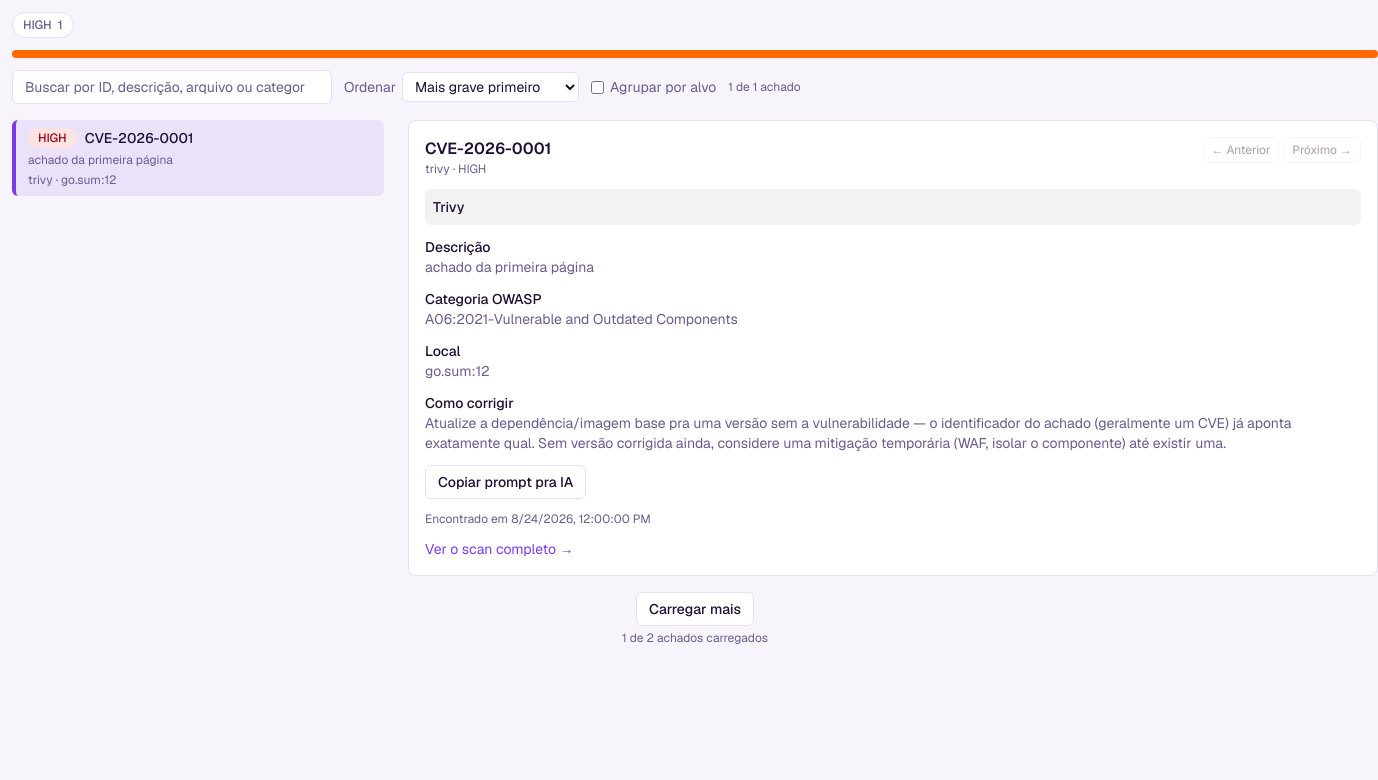
PaginatedFindingsFeed › uma falha ao carregar mais mostra um toast de erro e mantém os achados já carregados
Click the button "Carregar mais". click: x=695, y=609
box: [636,592,754,626]
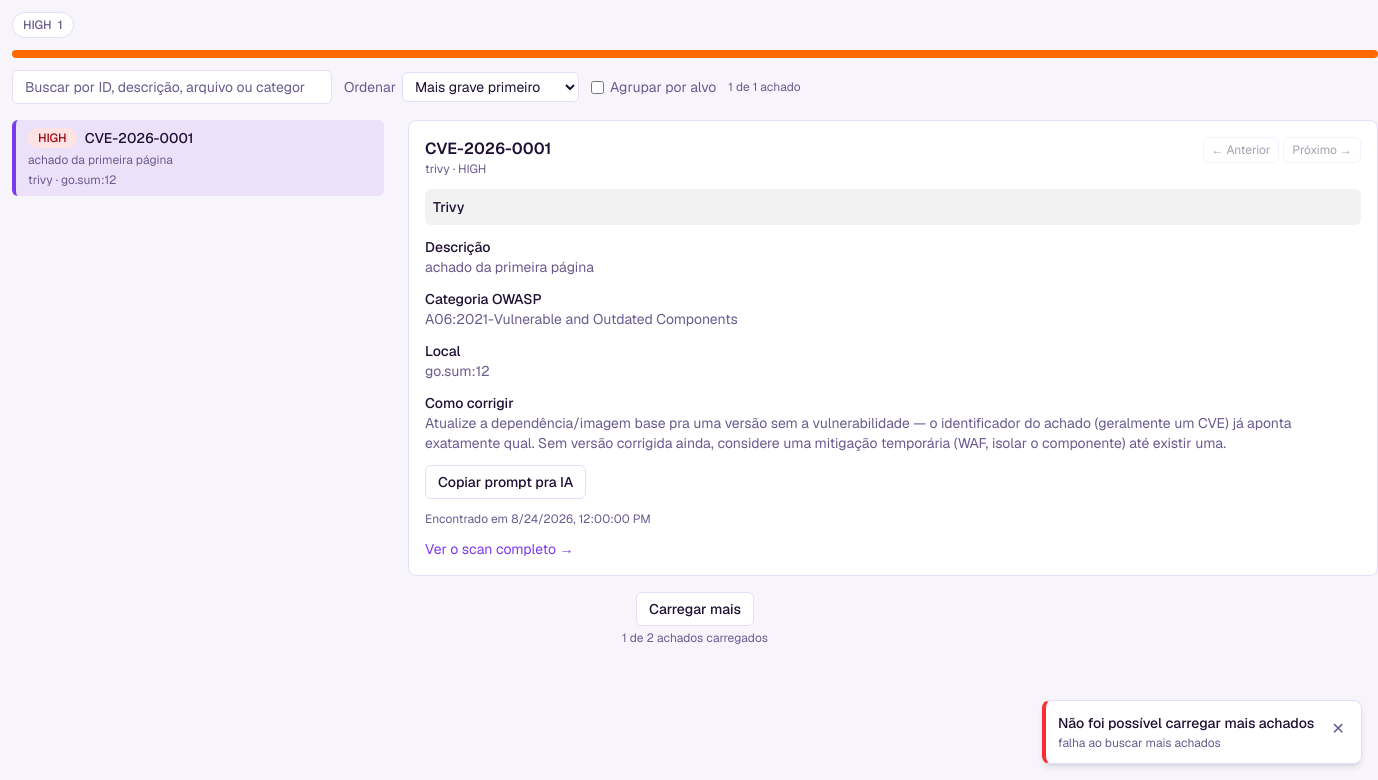
Check: the text "achado da primeira página" below "Descrição" is shown, box [425,258,594,276]
Check: the text "falha ao buscar mais achados" is shown, box [1058,735,1221,751]
